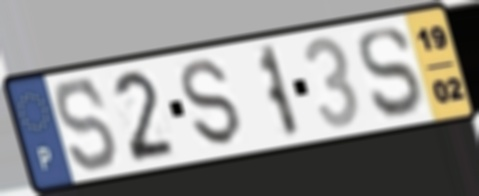1: (254, 40, 305, 142)
2: (110, 66, 182, 167)
3: (301, 33, 366, 132)
S: (355, 24, 425, 123), (53, 76, 121, 175), (179, 57, 245, 149)
